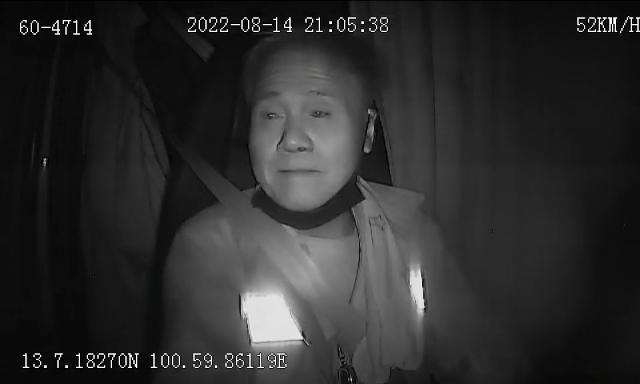SafeDriving: (301, 96, 339, 126), (254, 100, 290, 128)
Seatbelt: (175, 141, 361, 339)
